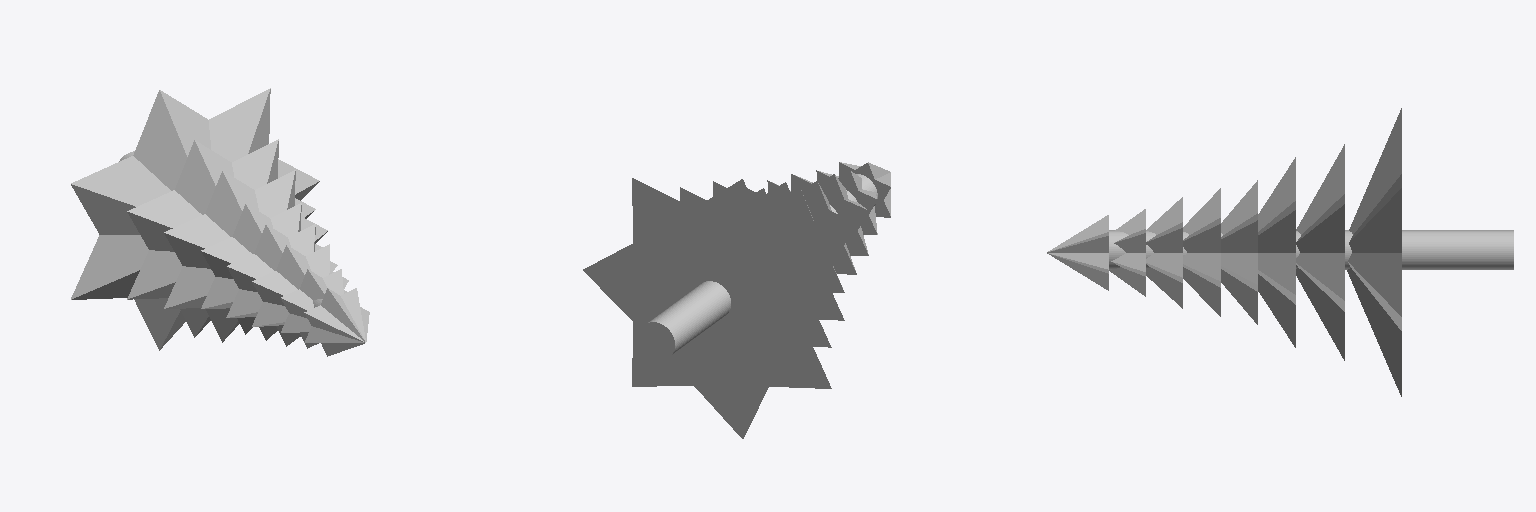
Rendered from tinker 1.obj.
3 renders of one model, left to right at view 1: azimuth 30°, elevation 25°; view 2: azimuth 150°, elevation 25°; view 3: azimuth 270°, elevation 25°, orthographic.
Visible parts, largest first — view 1: obj_0; view 2: obj_0; view 3: obj_0.
Boxes of the visible parts, x1,y1,x2,y2 form: obj_0: [71, 88, 369, 356]; obj_0: [583, 162, 890, 438]; obj_0: [1047, 108, 1513, 396].
Bounding box in the file's own units: 124 × 124 × 201.